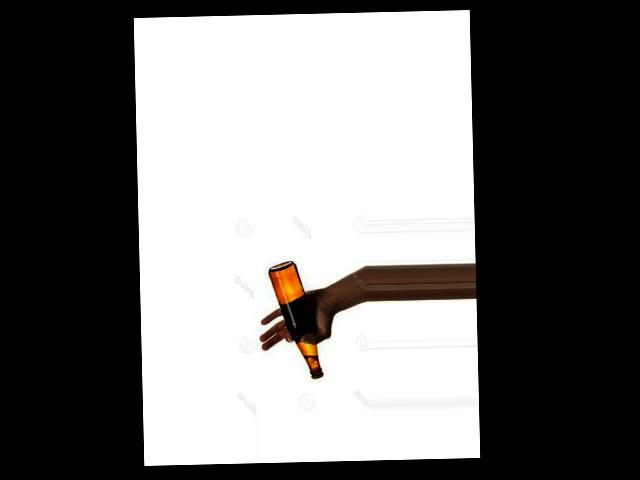beer: (270, 261, 322, 377)
